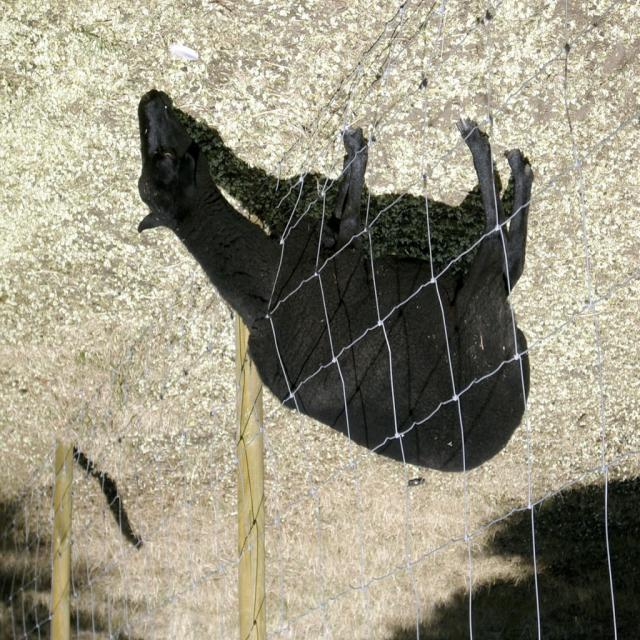Goat: (136, 91, 535, 475)
